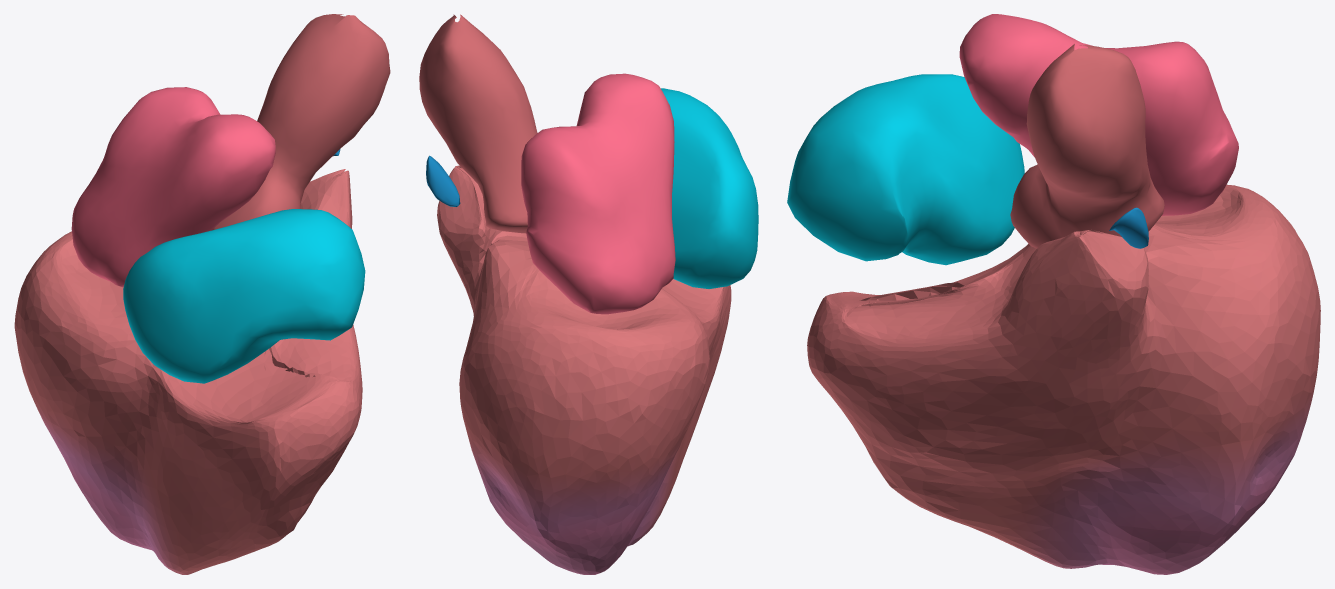
File: frame_33.glb
The picture shows the model from 3 angles, left to right: view 1: azimuth 30°, elevation 25°; view 2: azimuth 150°, elevation 25°; view 3: azimuth 270°, elevation 25°; orthographic projection. The views are drawn at different scales.
Visible parts, largest first — view 1: Renderer Node; view 2: Renderer Node; view 3: Renderer Node.
Part boxes in pixels (left/top/right/bottom): Renderer Node: left=14, top=14, right=390, bottom=574; Renderer Node: left=419, top=14, right=758, bottom=574; Renderer Node: left=787, top=14, right=1320, bottom=574.
Size of the model in its own units: 98.11 by 154 by 120.
